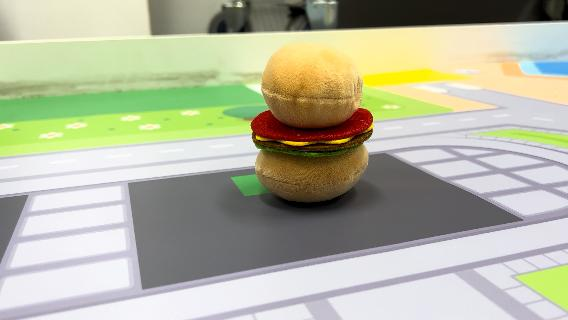burger: (249, 39, 377, 204)
